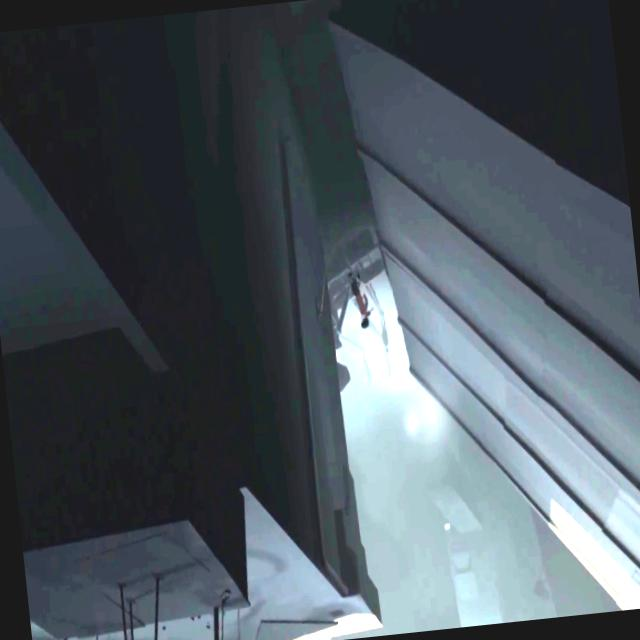boy: (348, 275, 373, 331)
zombie: (378, 311, 388, 353), (362, 349, 372, 387), (384, 353, 392, 378)
